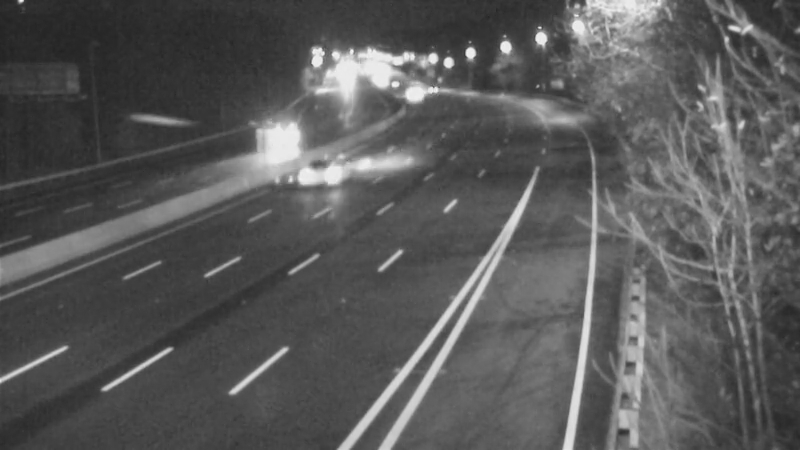vehicle: (273, 127, 353, 207), (406, 65, 456, 115), (385, 70, 435, 120), (259, 117, 309, 167)
